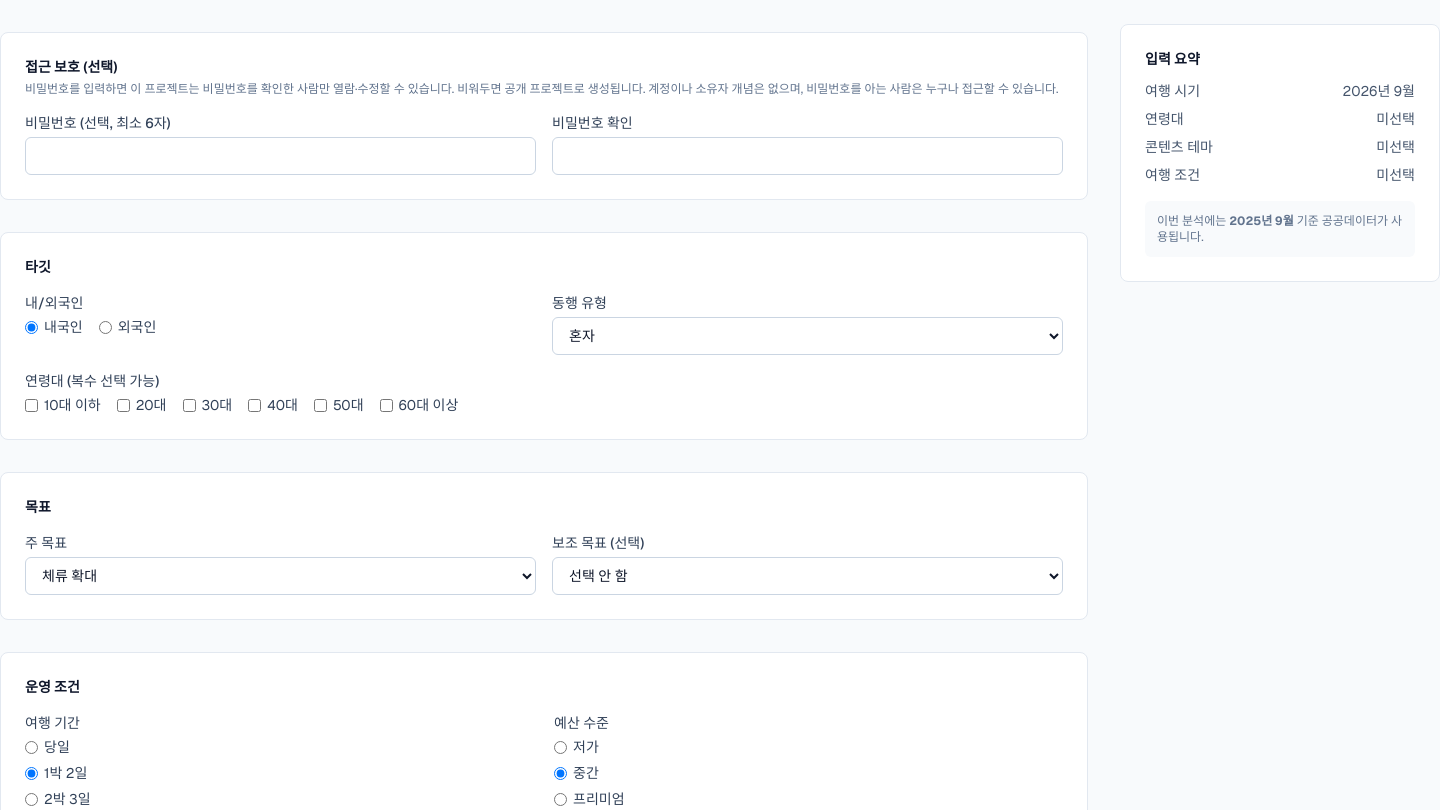
ProjectInputForm › 연령대 체크박스를 선택하면 입력 요약에 선택 개수가 반영된다
(page scrolled)
What coordinates should you click on to do the following:
click the checkbox labelled "20대"
I would click on:
 (123, 405)
Its box is left=117, top=399, right=130, bottom=412.
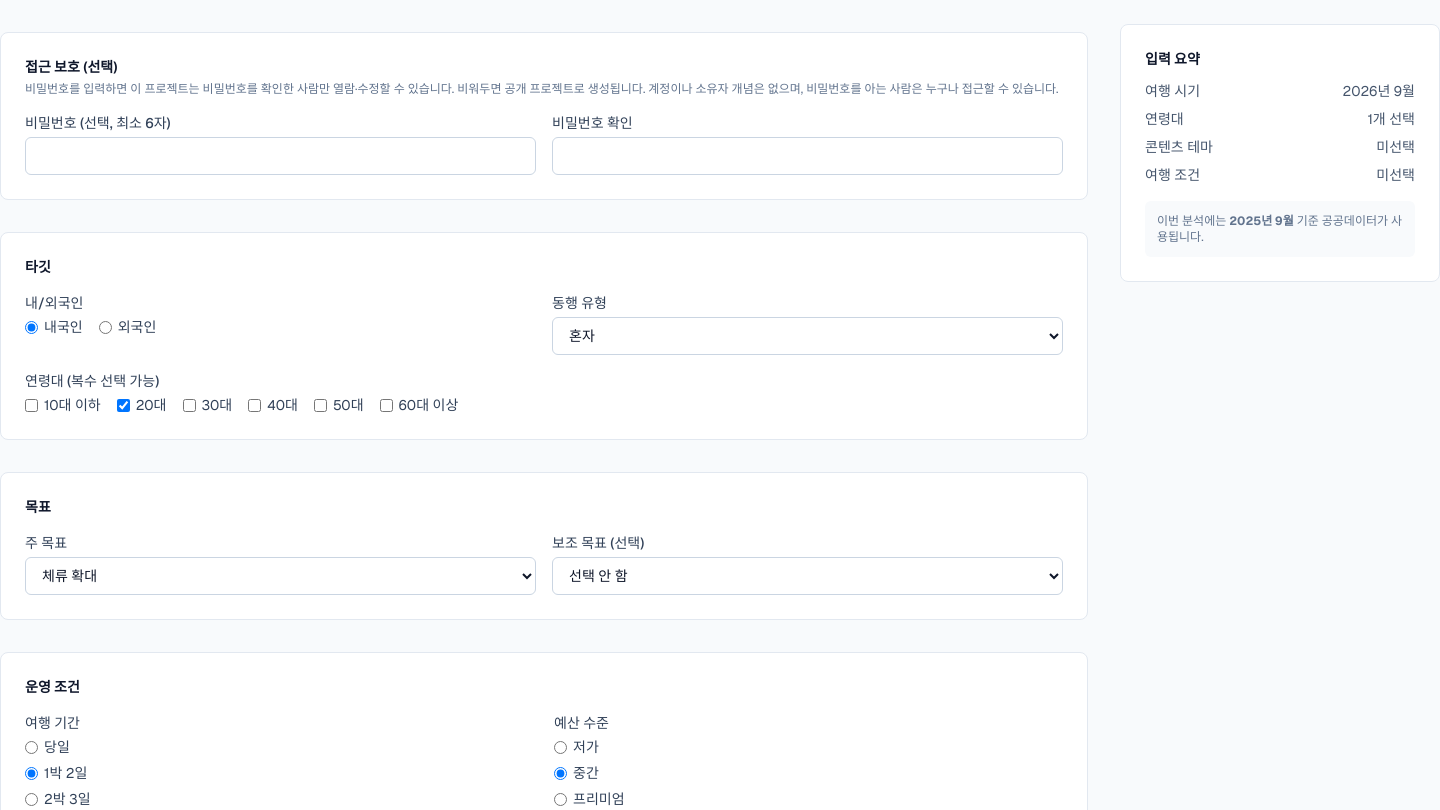
Result: the text "1개 선택" is shown at left=1368, top=109, right=1415, bottom=129
